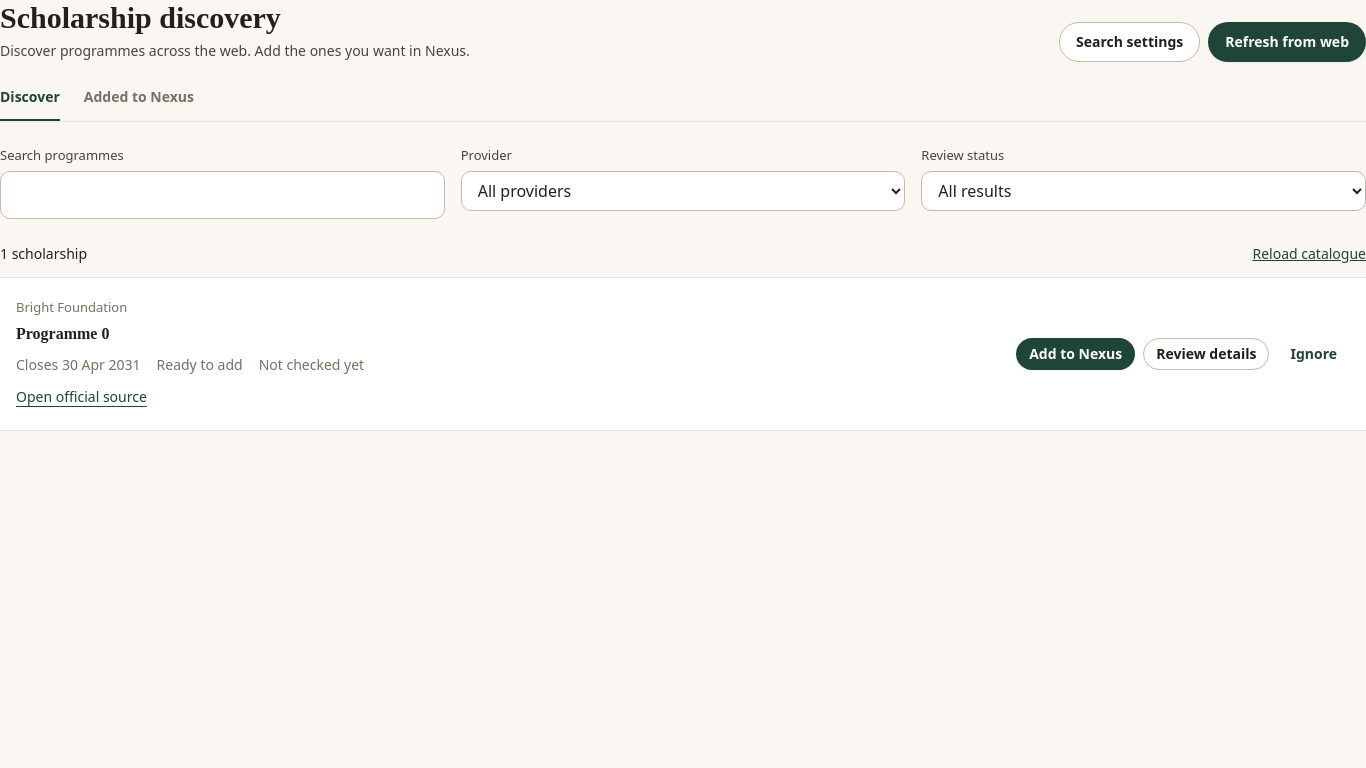
Test: opens fresh provider snapshots instead of stale full saved drafts
Expected: the text "1 scholarship" is shown, [0,243,87,265]
Step 1. Click the button "Review details" → click(1206, 354), box [1143,338,1270,370]
(page scrolled)
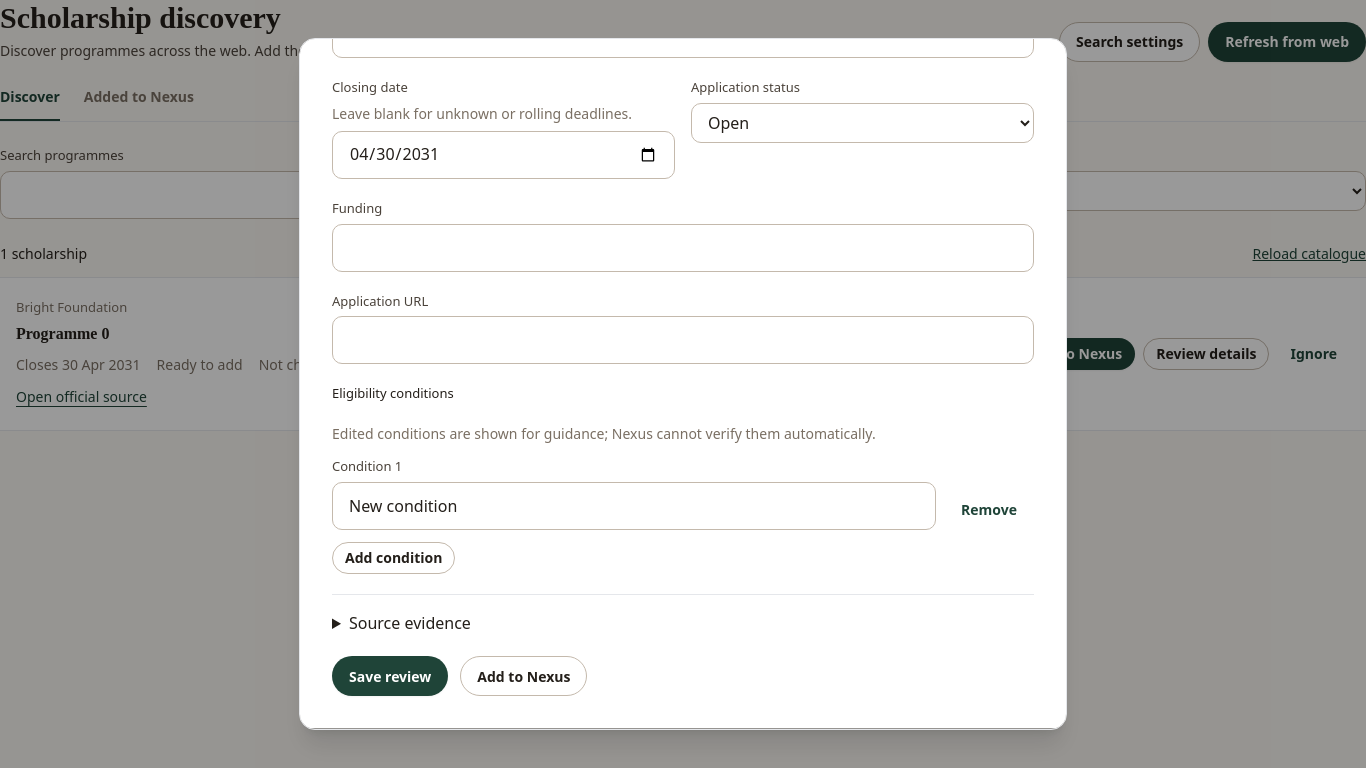
Expected: the date field labelled "Closing date" holds "2031-04-30", [332,131,675,179]
Expected: the field labelled "Condition 1" holds "New condition", [332,482,936,530]
